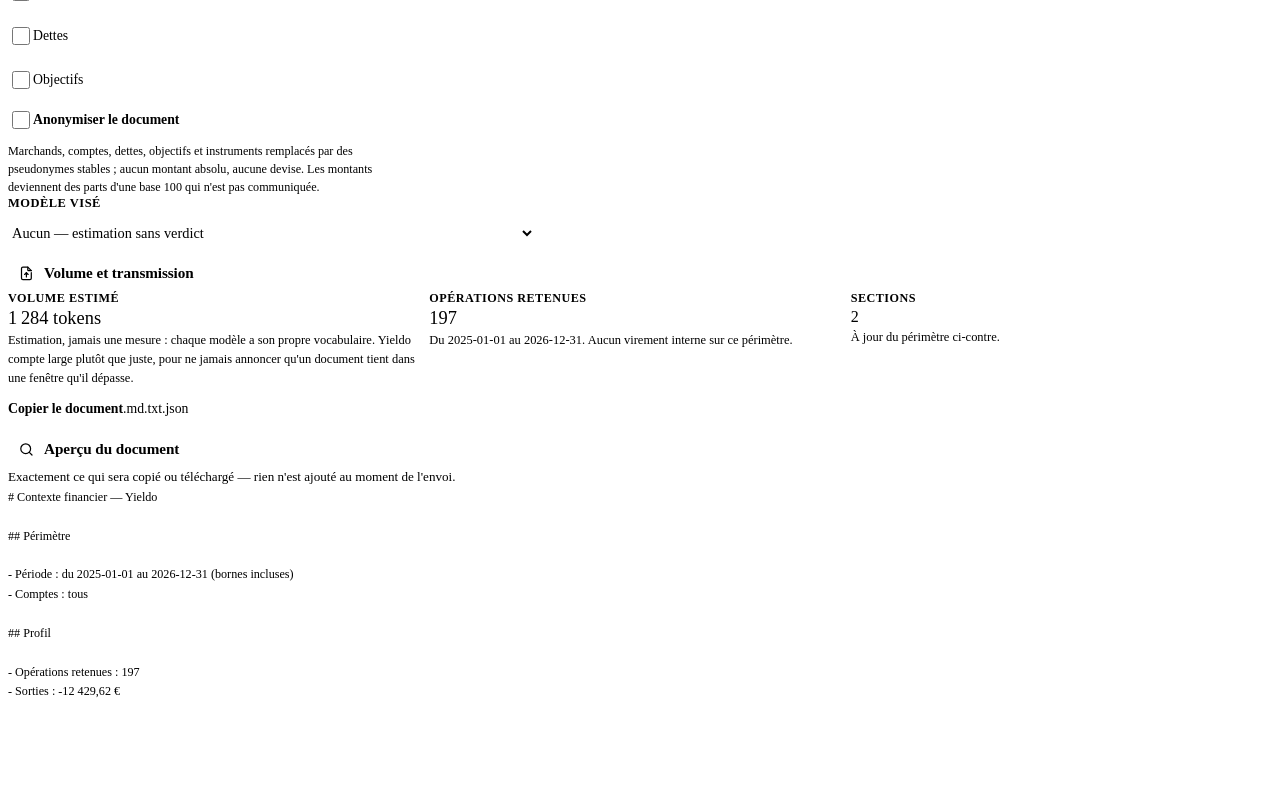
Scenario: copying › puts the document on the clipboard in one click
The width and height of the screenshot is (1280, 792).
(page scrolled)
Expected: the text "1 284 tokens" is shown, x1=8 y1=308 x2=101 y2=328
Click the button "Copier le document" at (66, 409), box x1=8 y1=387 x2=123 y2=431
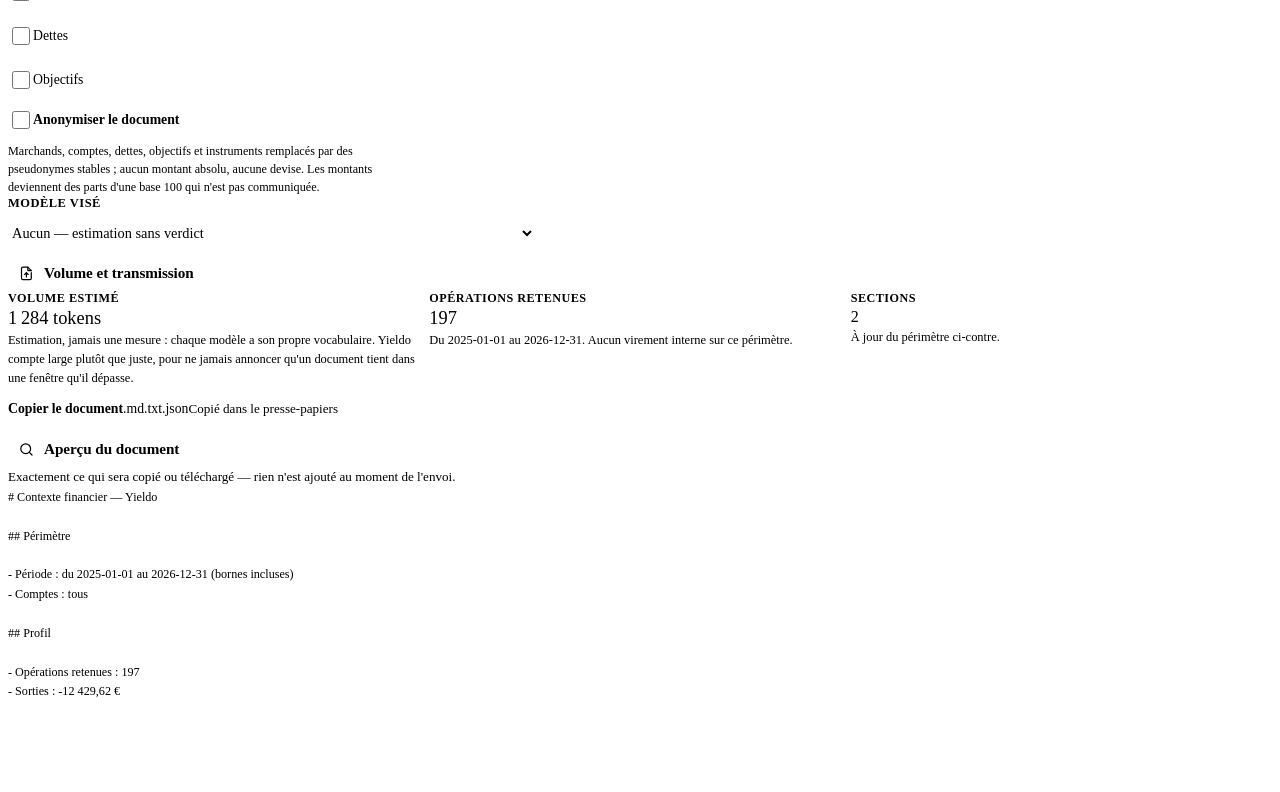
Expected: the message with test id "yd-export-copied" shows "Copié", x1=188 y1=401 x2=338 y2=416
